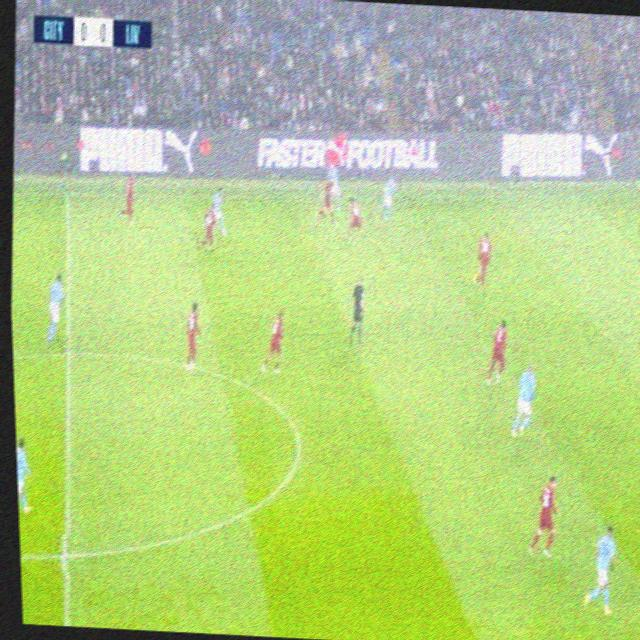halfcircle_bottom: (52, 534, 83, 572)
halfcircle_top: (53, 334, 80, 368)
midline_top_intersection: (57, 184, 79, 209)
